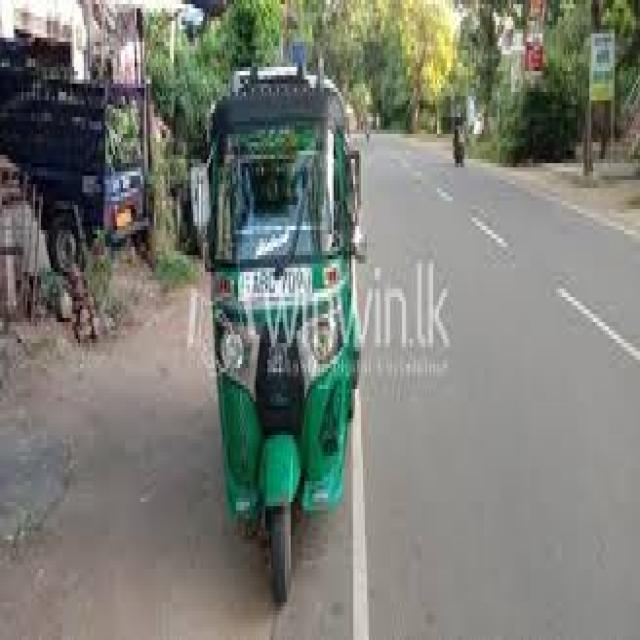three wheeler: (209, 67, 357, 602)
truck: (0, 38, 144, 272)
